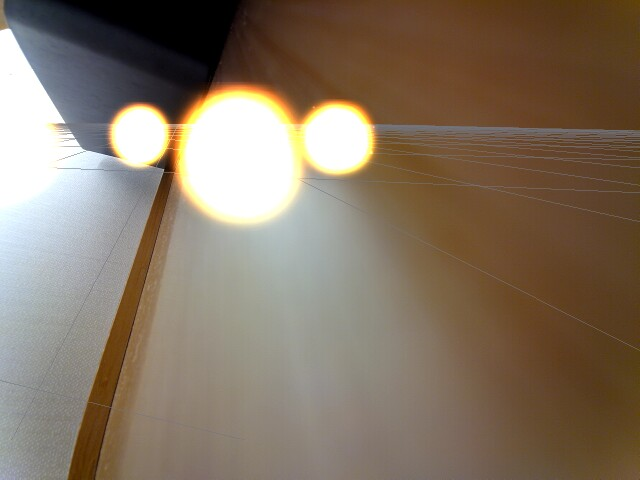firebig: (175, 83, 301, 229)
